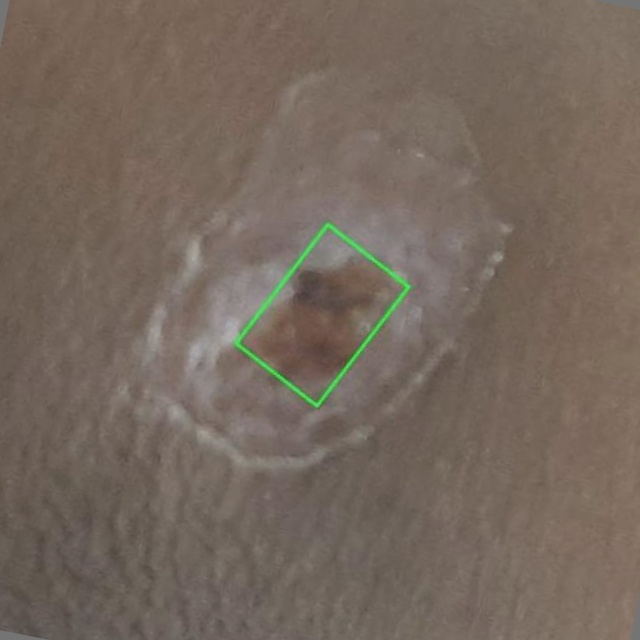Eczema: (236, 224, 409, 406)
